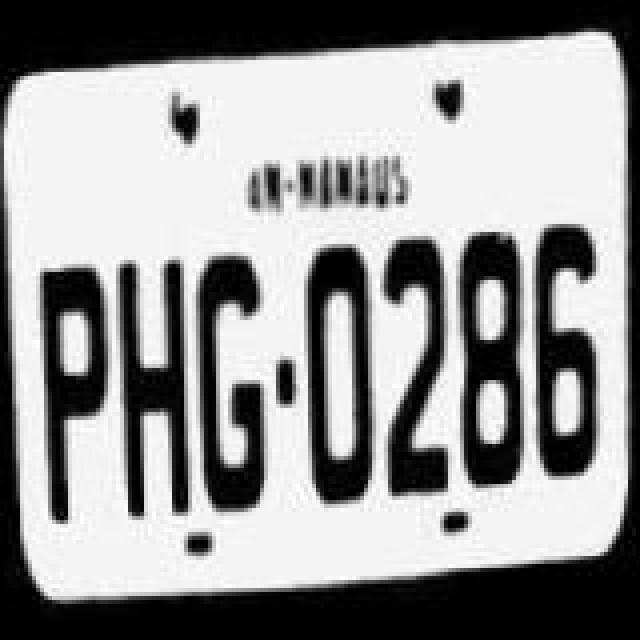2: (376, 230, 456, 518)
6: (530, 212, 606, 500)
8: (454, 218, 530, 502)
G: (192, 248, 272, 532)
H: (108, 252, 196, 528)
O: (302, 238, 378, 526)
P: (28, 260, 116, 540)
